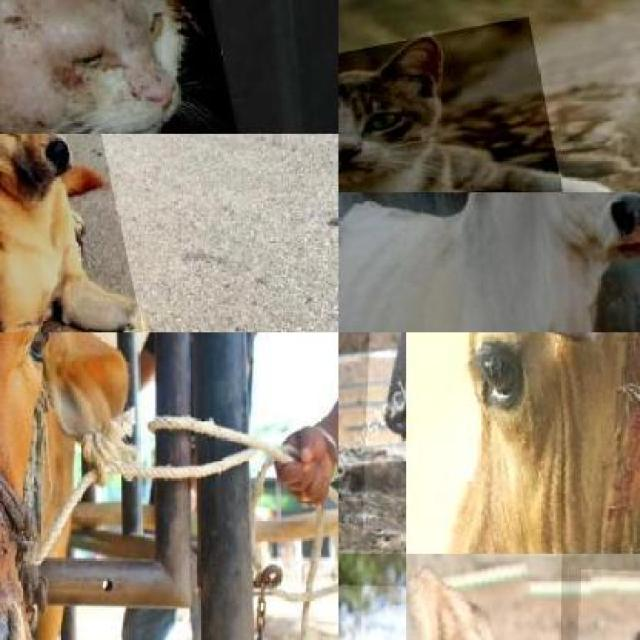buffalo: (362, 332, 406, 550)
cat: (338, 14, 574, 192), (0, 0, 277, 134)
cow: (406, 332, 640, 554), (338, 192, 640, 332), (0, 332, 137, 640)
dog: (0, 134, 157, 332), (406, 554, 563, 640)
injured: (587, 332, 640, 553), (0, 0, 38, 111)
